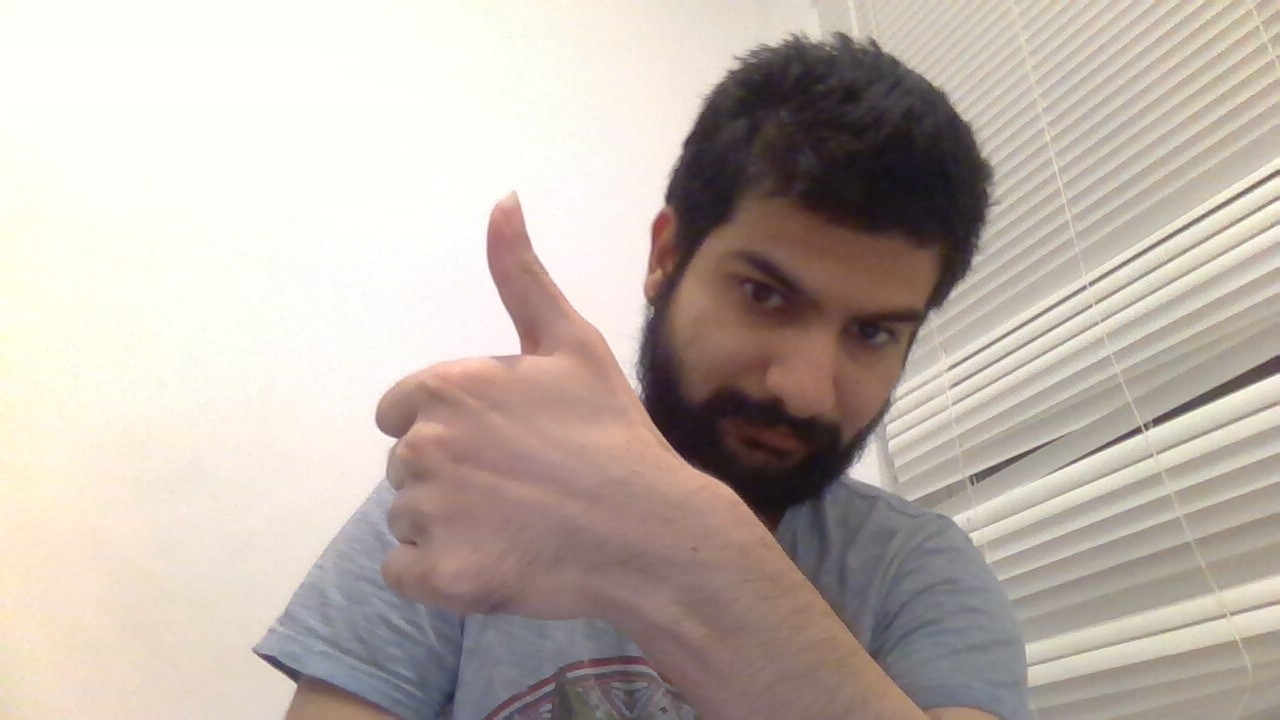up: (355, 175, 653, 628)
